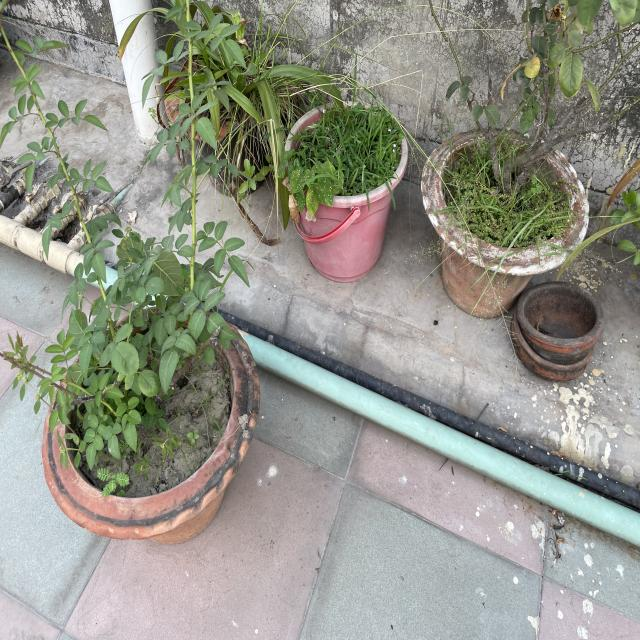Breeding Place: (45, 291, 261, 548), (425, 125, 565, 318), (289, 104, 401, 282), (514, 280, 596, 382)
